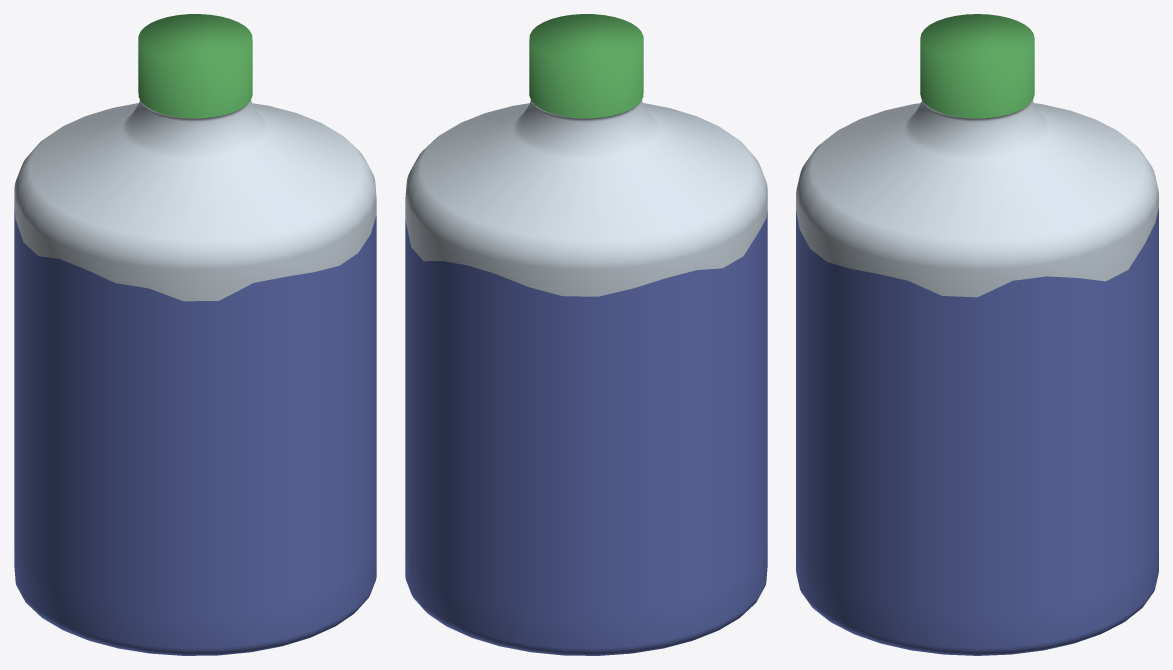
File: eau2.gltf
3 views of the same model, side by side, from view 1: azimuth 30°, elevation 25°; view 2: azimuth 150°, elevation 25°; view 3: azimuth 270°, elevation 25° (orthographic).
Parts seen in each view (by area): view 1: Cube; view 2: Cube; view 3: Cube.
Boxes of the visible parts, box(x1,y1,x2,y2) form: Cube: box(14, 14, 376, 655); Cube: box(405, 14, 767, 655); Cube: box(796, 14, 1158, 655).
Size of the model in its own units: 1.46 by 2.42 by 1.46.
